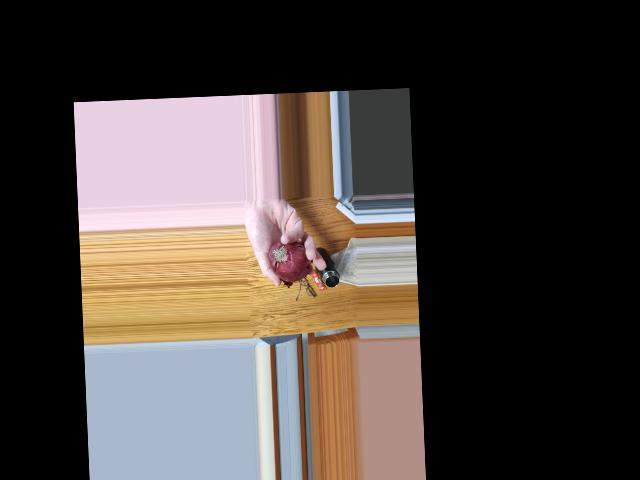onion: (264, 235, 308, 280)
